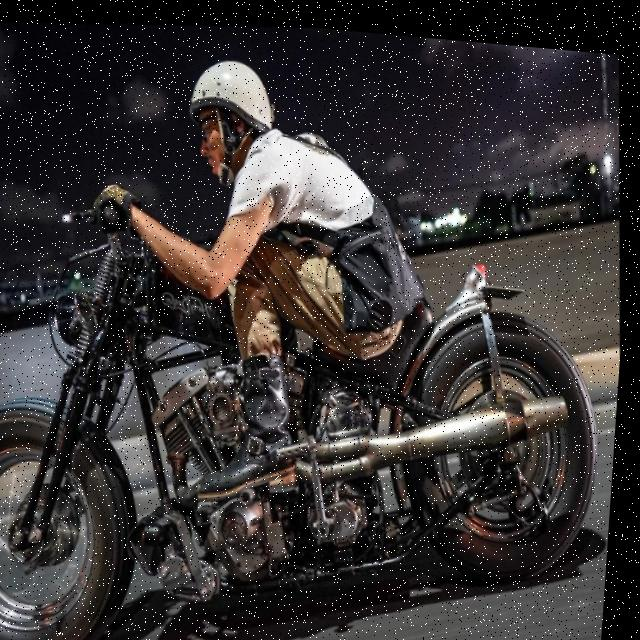helmet: (178, 44, 284, 193)
